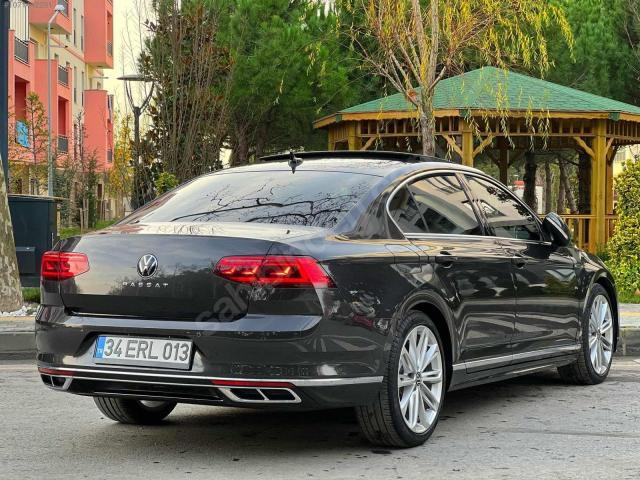plaka: (94, 336, 191, 369)
